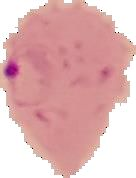parasitized: (5, 40, 78, 115)
